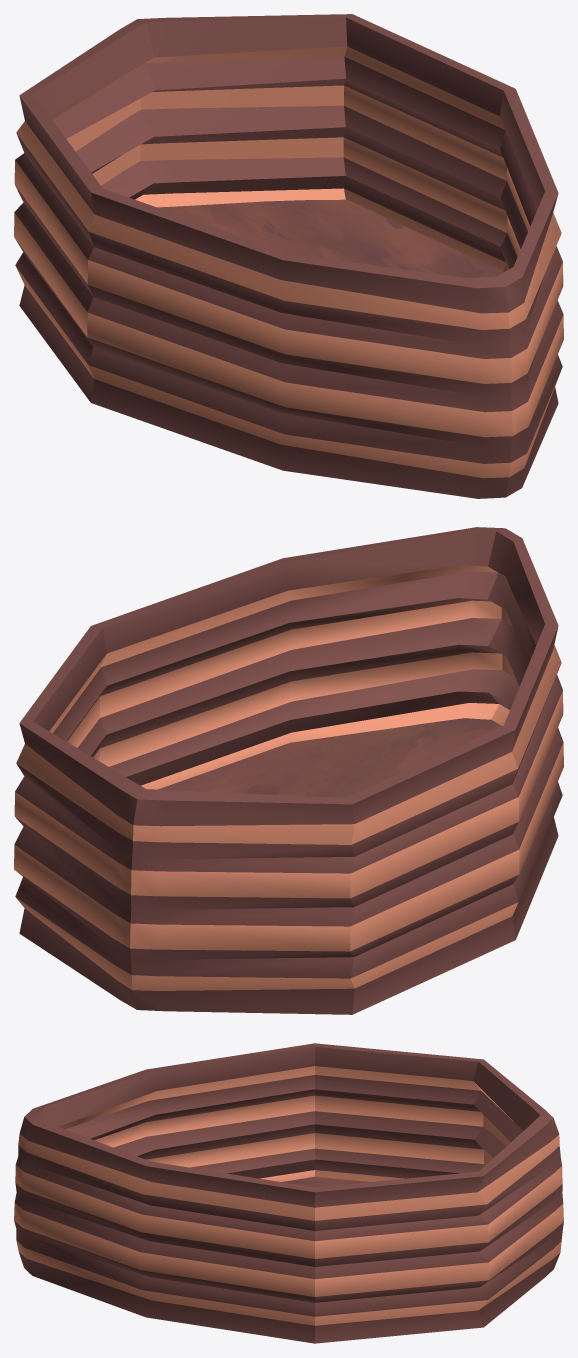
The model's file is VasoRetangular3.fbx.
3 renders of one model, top to bottom at view 1: azimuth 30°, elevation 25°; view 2: azimuth 150°, elevation 25°; view 3: azimuth 270°, elevation 25°, orthographic. The views are drawn at different scales.
Visible parts, largest first — view 1: Cylinder.041; view 2: Cylinder.041; view 3: Cylinder.041.
Boxes of the visible parts, left/top/right/bottom form: Cylinder.041: left=14, top=14, right=563, bottom=498; Cylinder.041: left=14, top=527, right=563, bottom=1014; Cylinder.041: left=14, top=1043, right=563, bottom=1343.
Size of the model in its own units: 1.07 by 0.5123 by 1.65.
